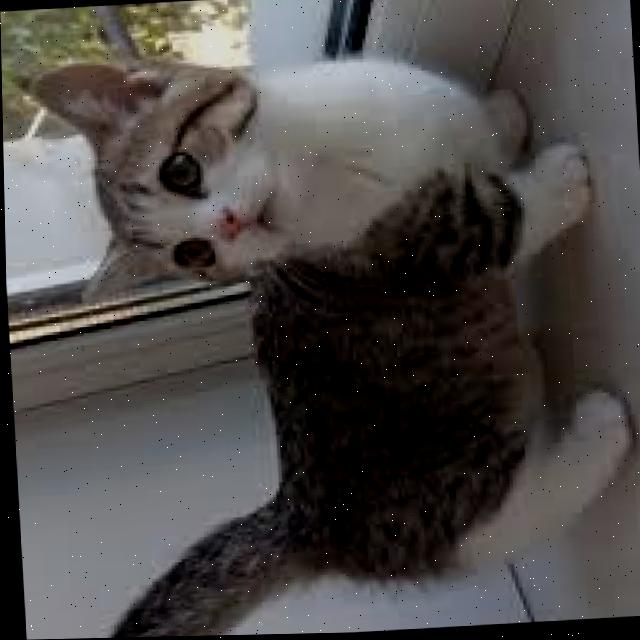Munchkin: (19, 29, 640, 640)
